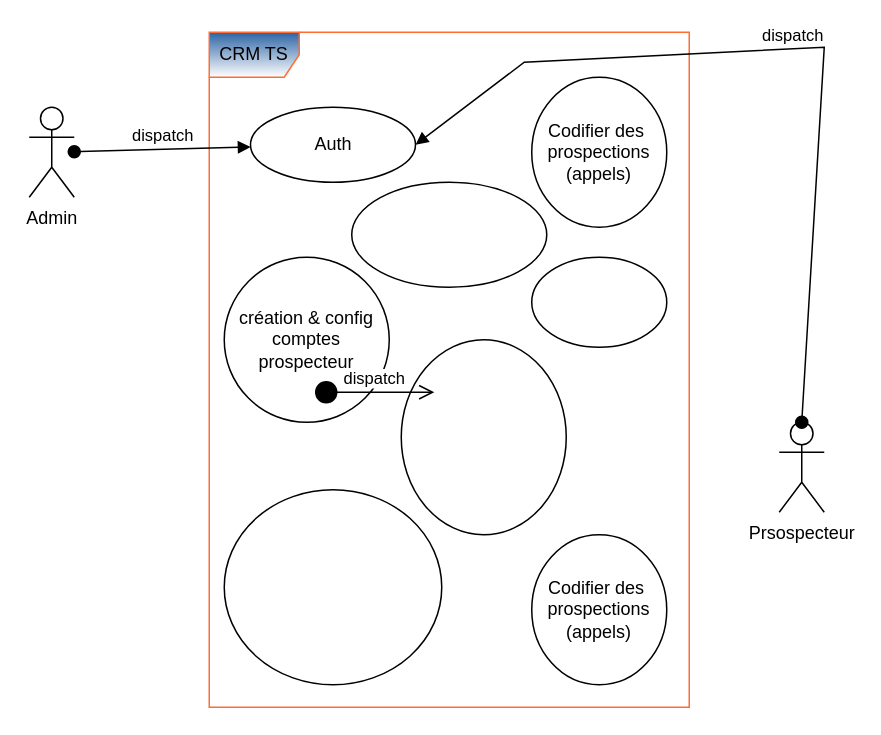
This 881x735 diagram has some shape labels left out. Each missing label, with the centre of its shape:
consulter la bannette: point (598, 301)
CRUD & Imports Clients (bannette): point (448, 234)
voir des rapports => statistiques par prospecteur: point (332, 586)
voir rappels & rdv programmés: point (483, 436)
